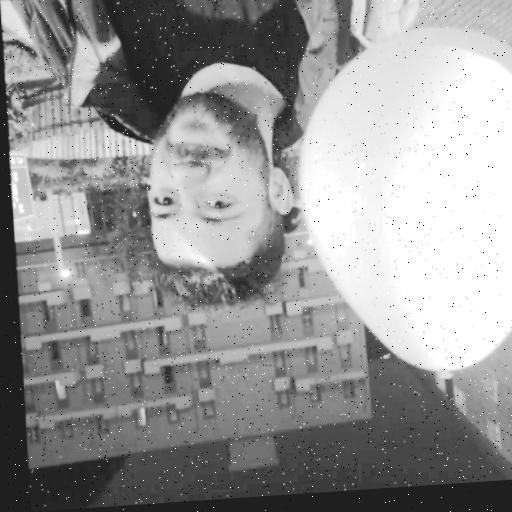balloon: (289, 23, 512, 386)
